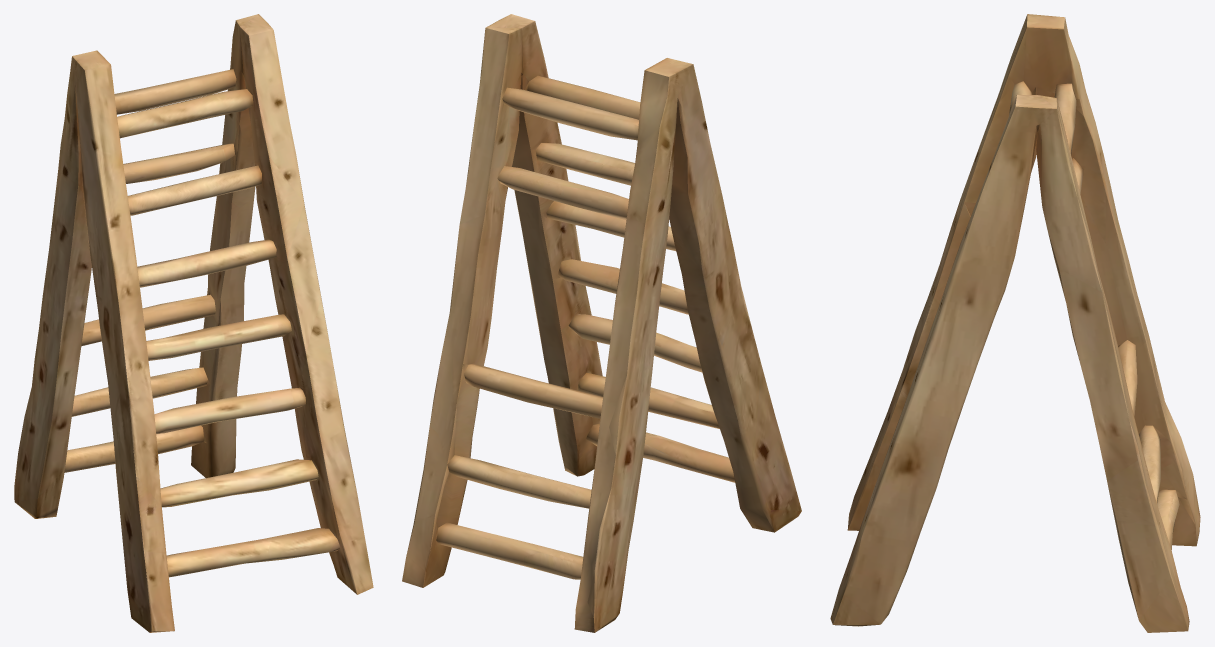
File: woodenLadder.glb
The picture shows the model from 3 angles, left to right: view 1: azimuth 30°, elevation 25°; view 2: azimuth 150°, elevation 25°; view 3: azimuth 270°, elevation 25°; orthographic projection. The views are drawn at different scales.
Parts seen in each view (by area): view 1: model; view 2: model; view 3: model.
Boxes of the visible parts, x1,y1,x2,y2 form: model: [14, 14, 373, 632]; model: [402, 14, 801, 632]; model: [830, 14, 1200, 632].
Bounding box in the file's own units: 0.8962 × 1.9 × 1.23.
1 material, 1 textured.
